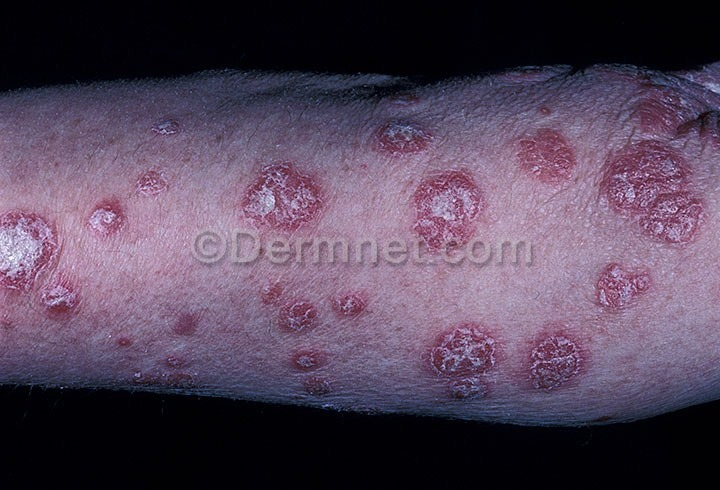Psoriasis: (431, 255, 676, 407), (523, 89, 714, 266), (364, 121, 502, 252), (236, 281, 380, 404), (2, 199, 132, 325), (231, 155, 357, 251), (117, 308, 209, 384)
